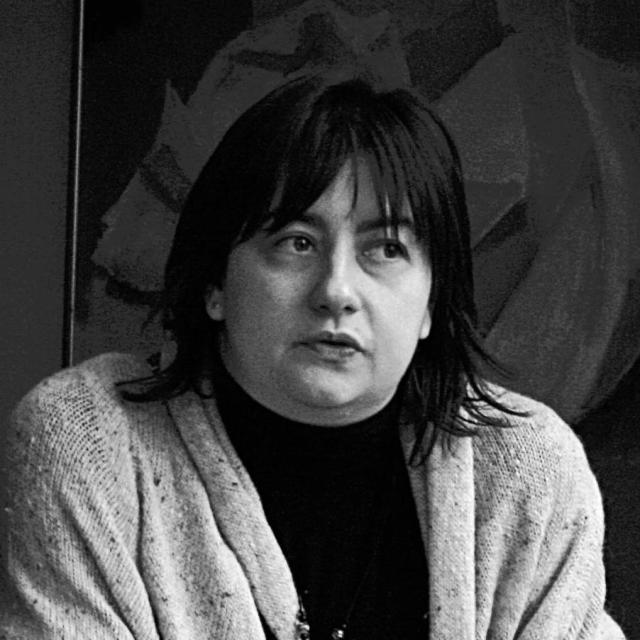no-glass: (259, 235, 415, 263)
